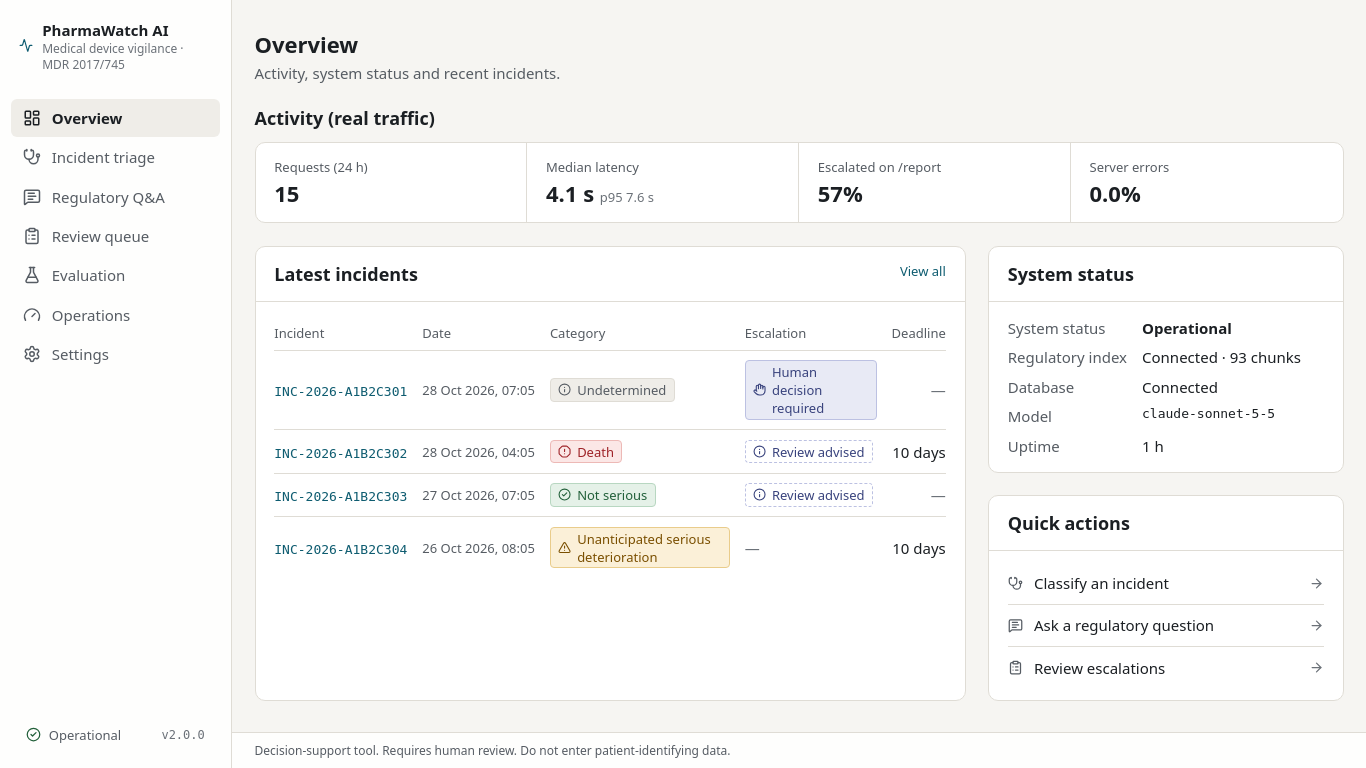
Test case: app shell › navigates between screens and marks the active link
The width and height of the screenshot is (1366, 768).
Click the link "Incident triage".
click(89, 157)  # box x1=22 y1=147 x2=155 y2=167
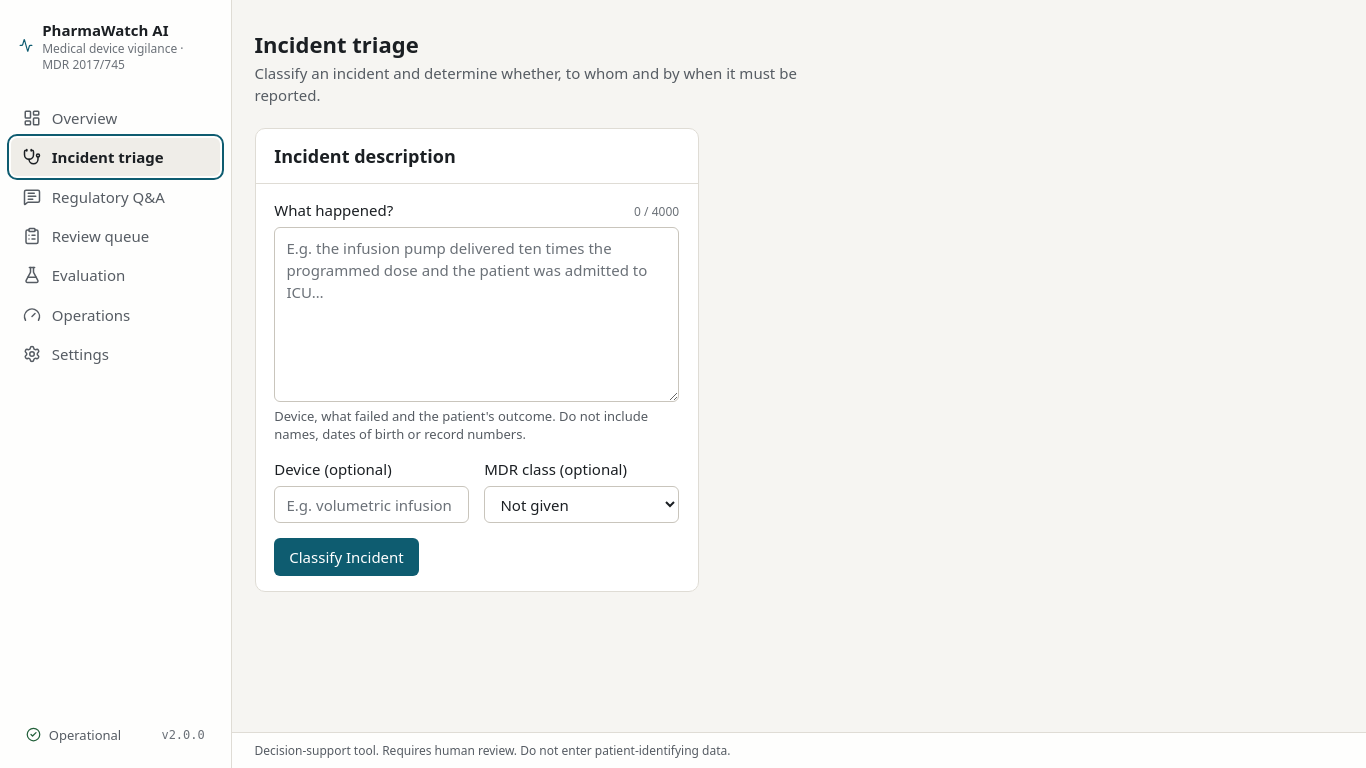
Result: the heading "Incident triage" is shown at x1=254 y1=29 x2=419 y2=59
